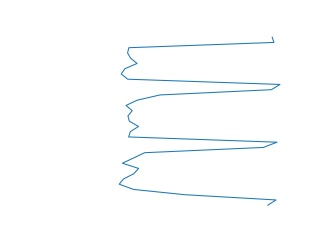majorRiverChannelBar: (116, 36, 285, 205)
